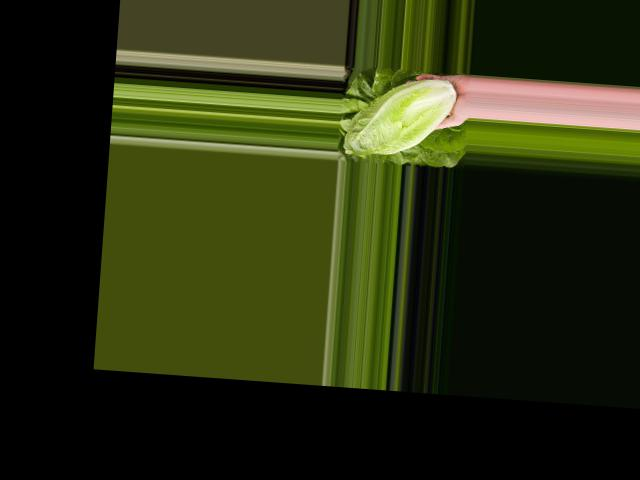lettuce: (342, 70, 459, 162)
